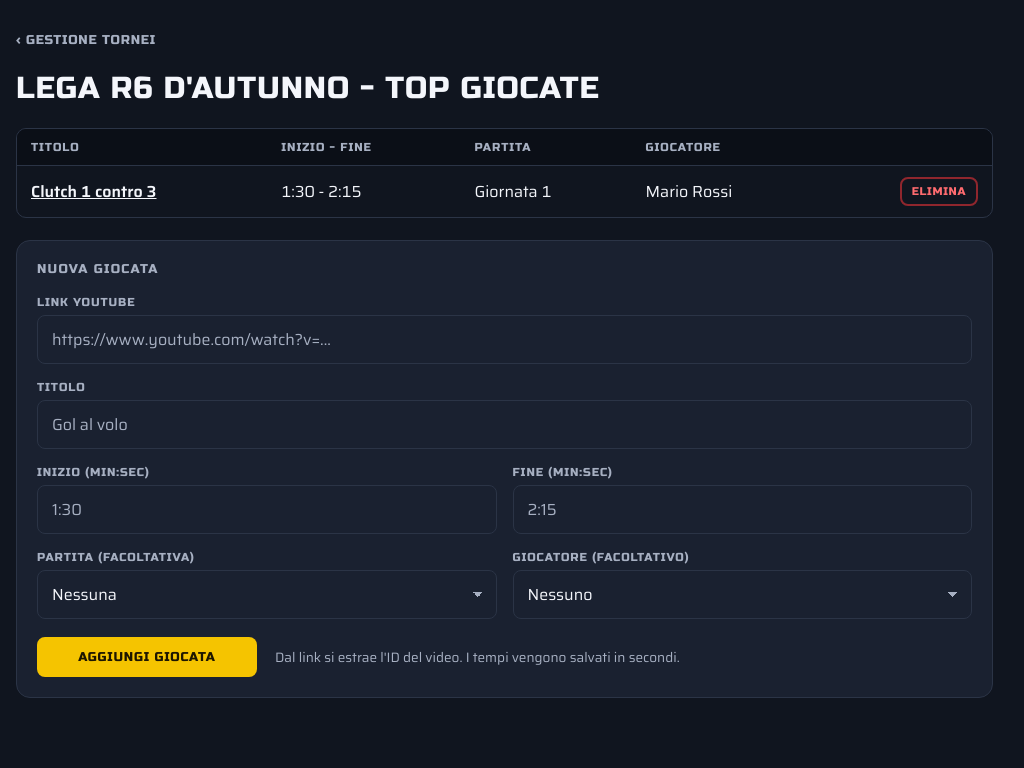
Test: GiocateAdminComponent › elimina una giocata dopo la conferma
This screenshot has width=1024, height=768.
Click the button with class "btn-pericolo" at (939, 192), box [900, 177, 978, 206]
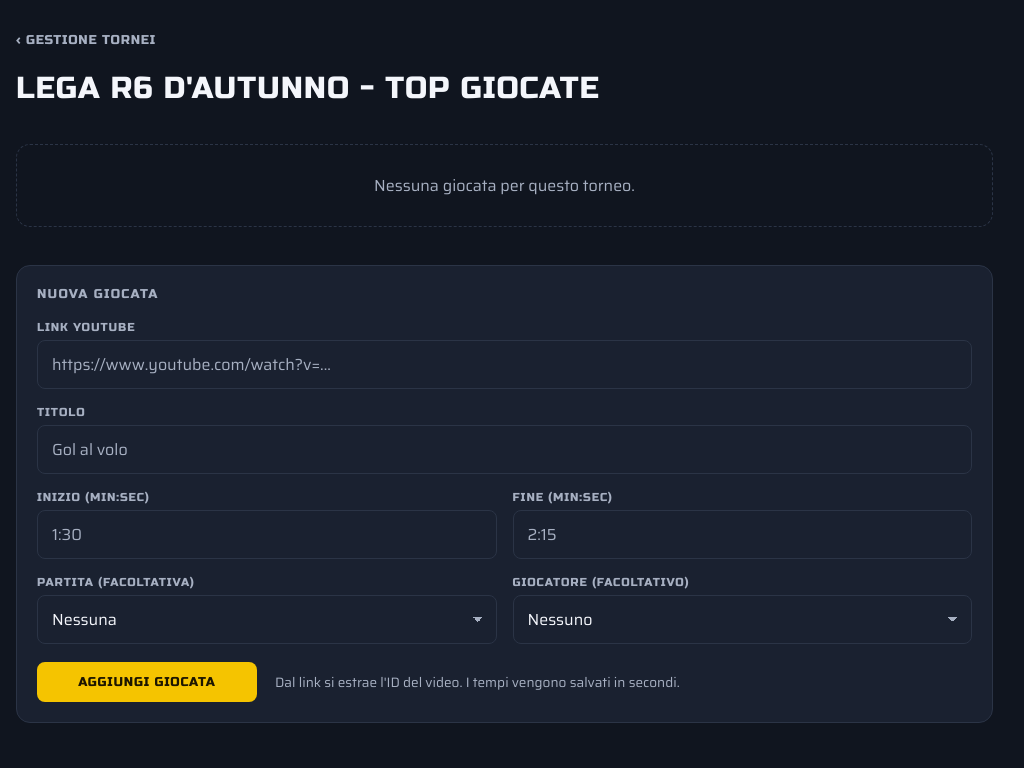
Expected: the text "Nessuna giocata per questo torneo" is shown, [374, 173, 635, 198]
